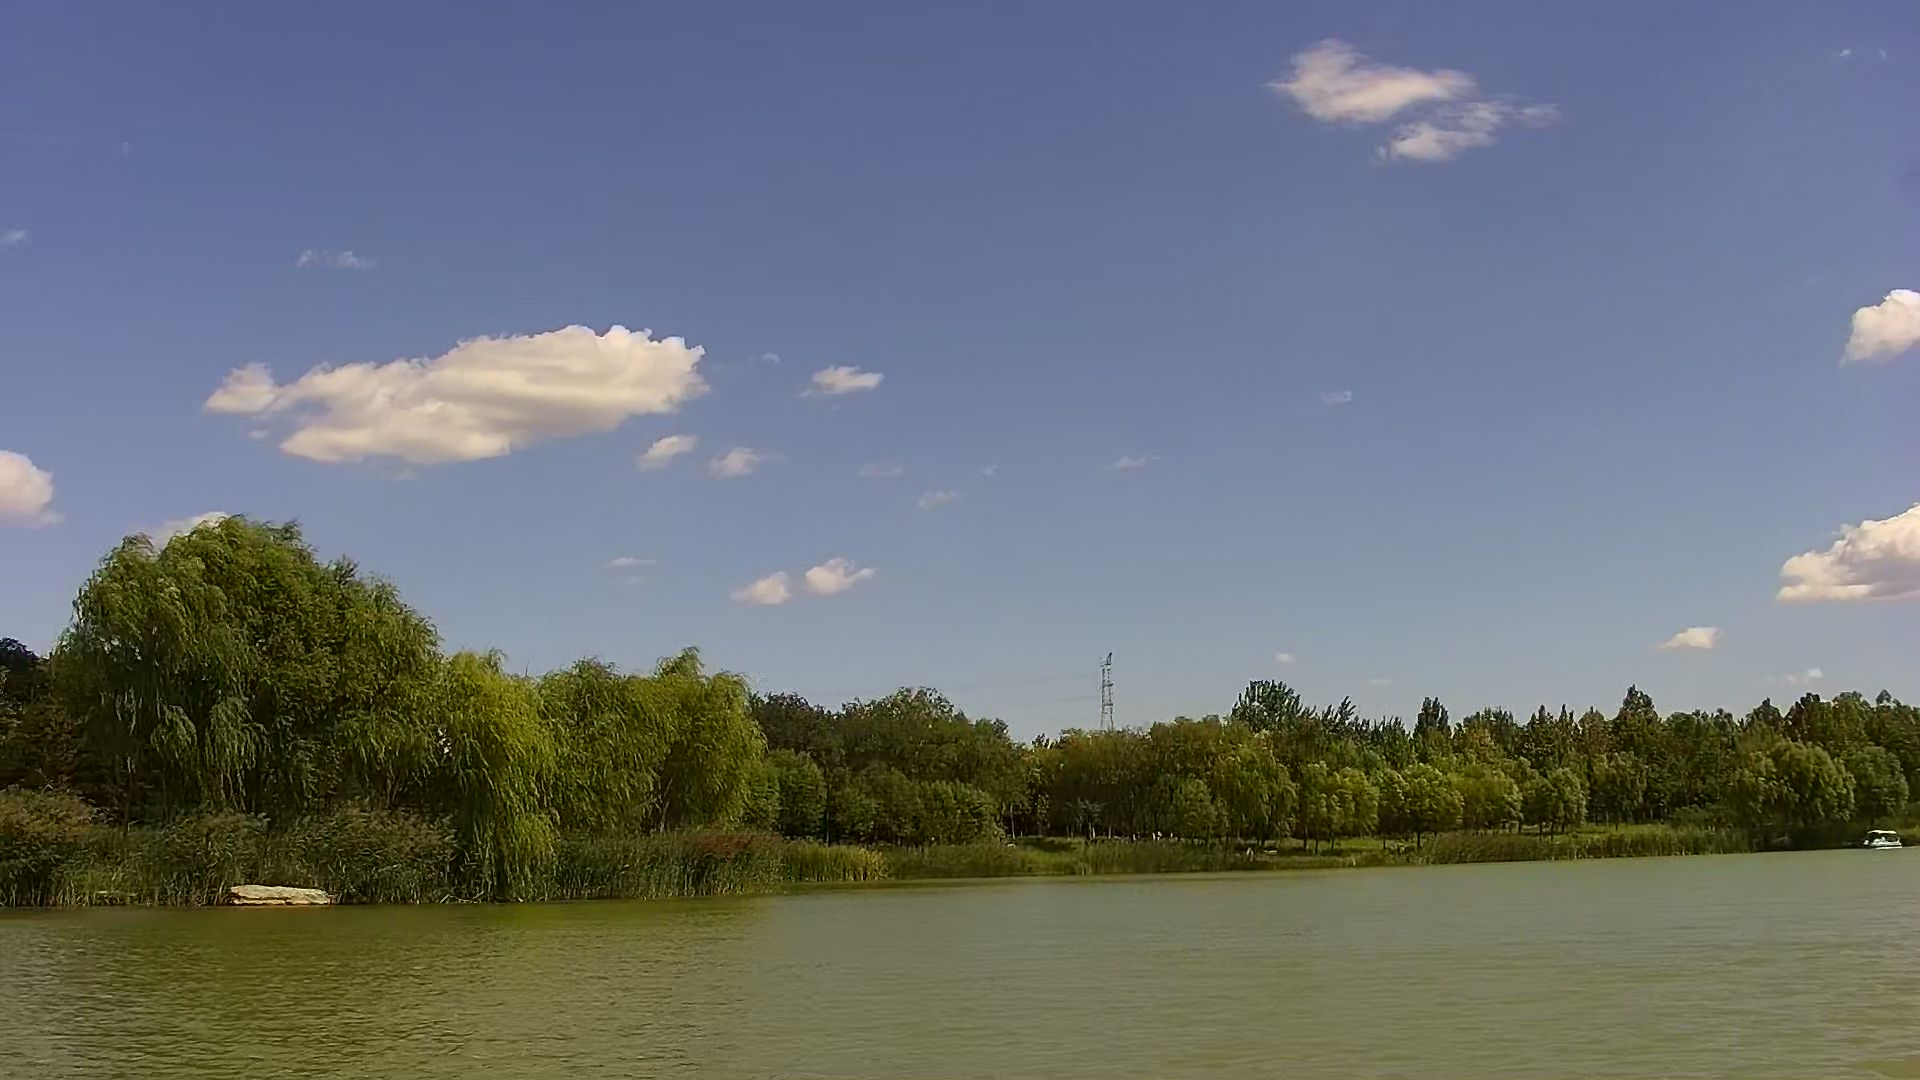boat: (1865, 828, 1902, 849)
rock: (225, 882, 328, 905)
